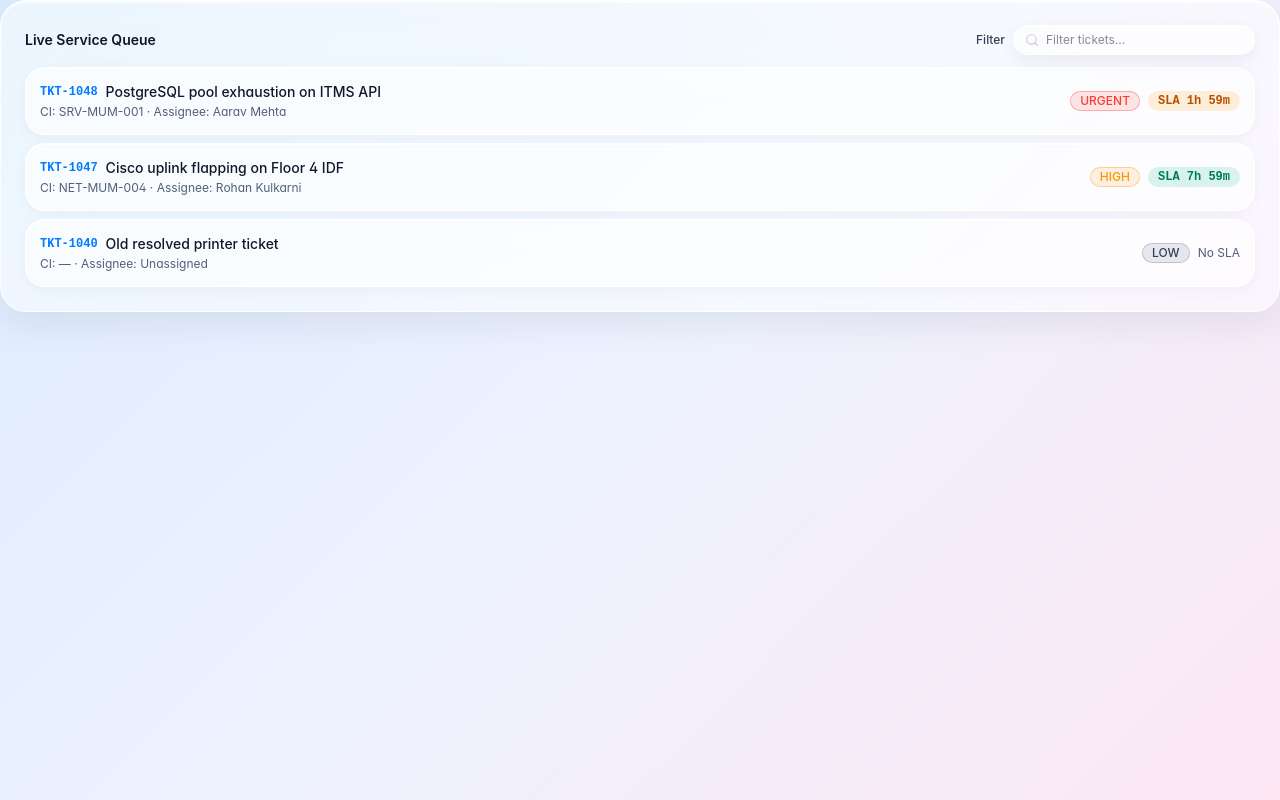
Test case: ServiceQueue FE-06 status outcome scoping (#150) › status confirm does not bleed onto another ticket mid-flight
The width and height of the screenshot is (1280, 800).
Click the text "TKT-1048" at (69, 92), box x1=40 y1=84 x2=98 y2=100
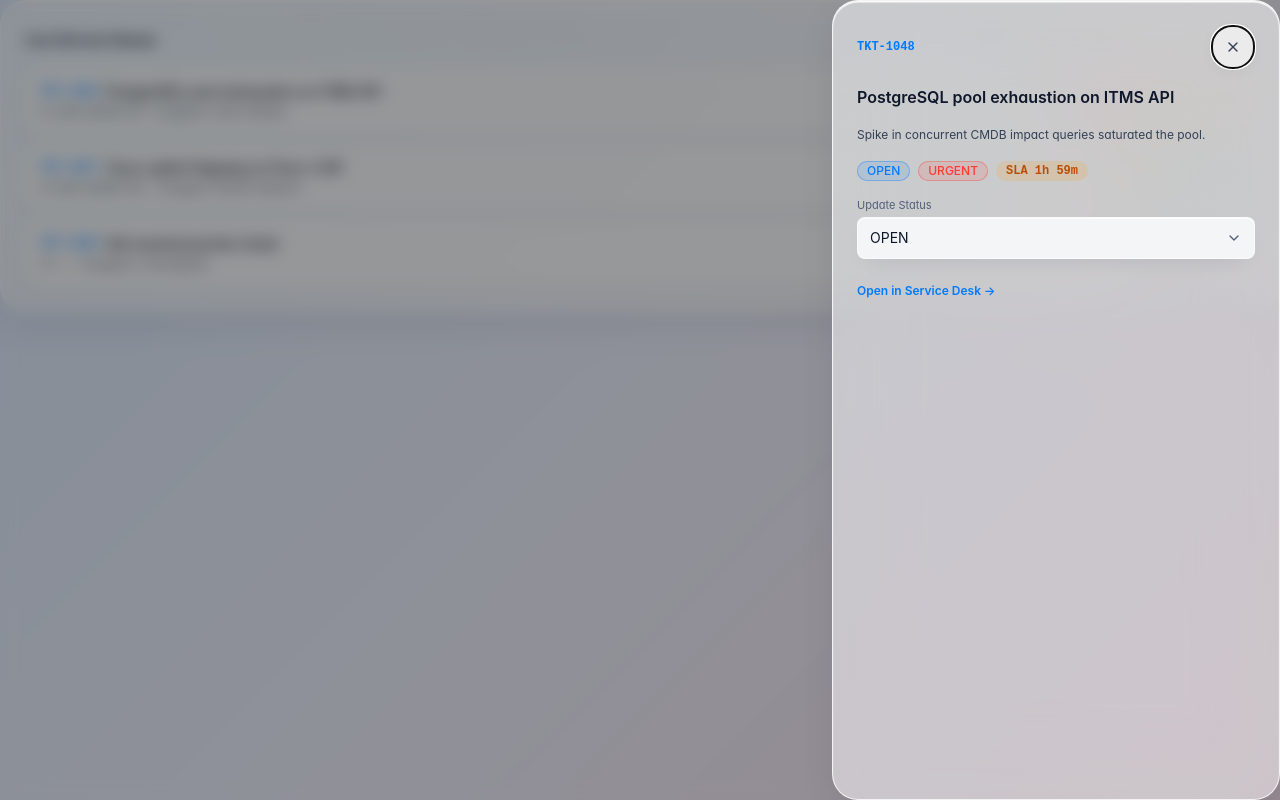
Click the button with aria-label "Update Status" at (889, 238), box x1=857 y1=217 x2=1255 y2=259
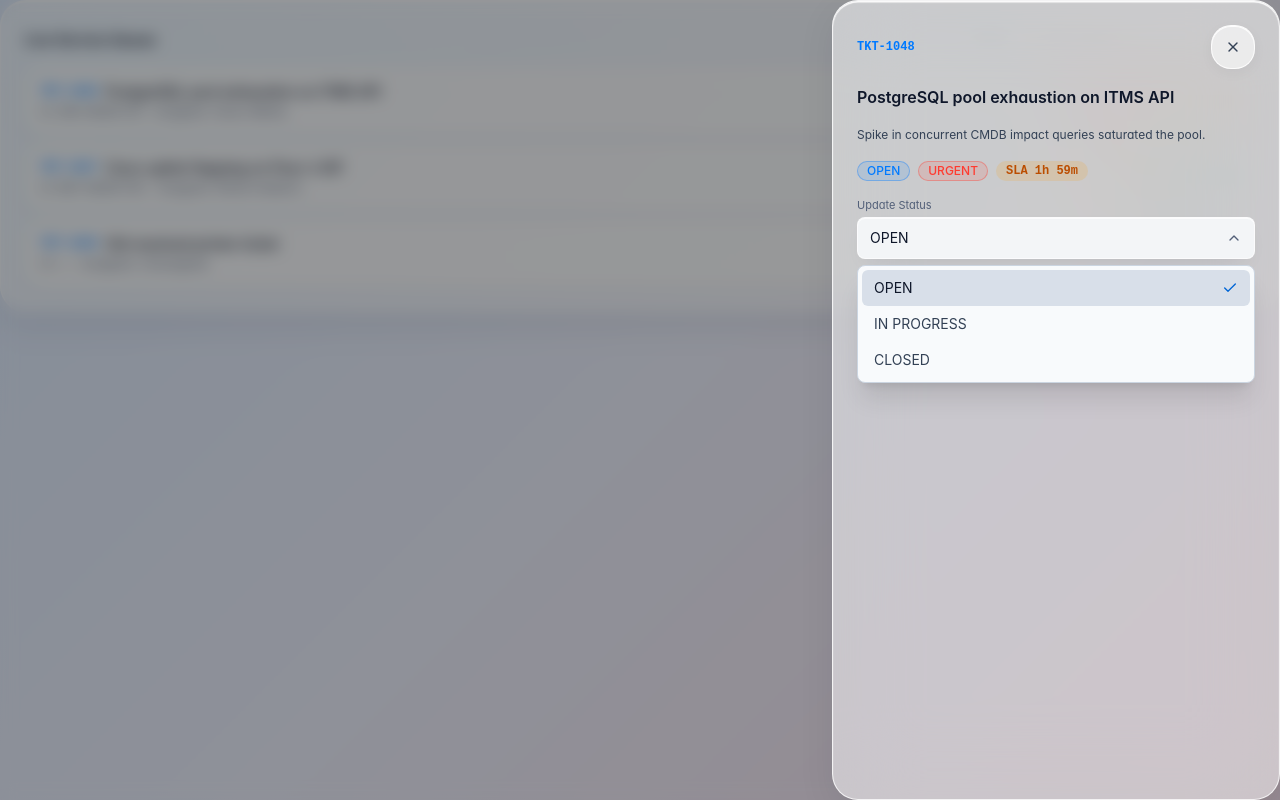
Click the option "IN PROGRESS" at (920, 324), box x1=862 y1=306 x2=1250 y2=342
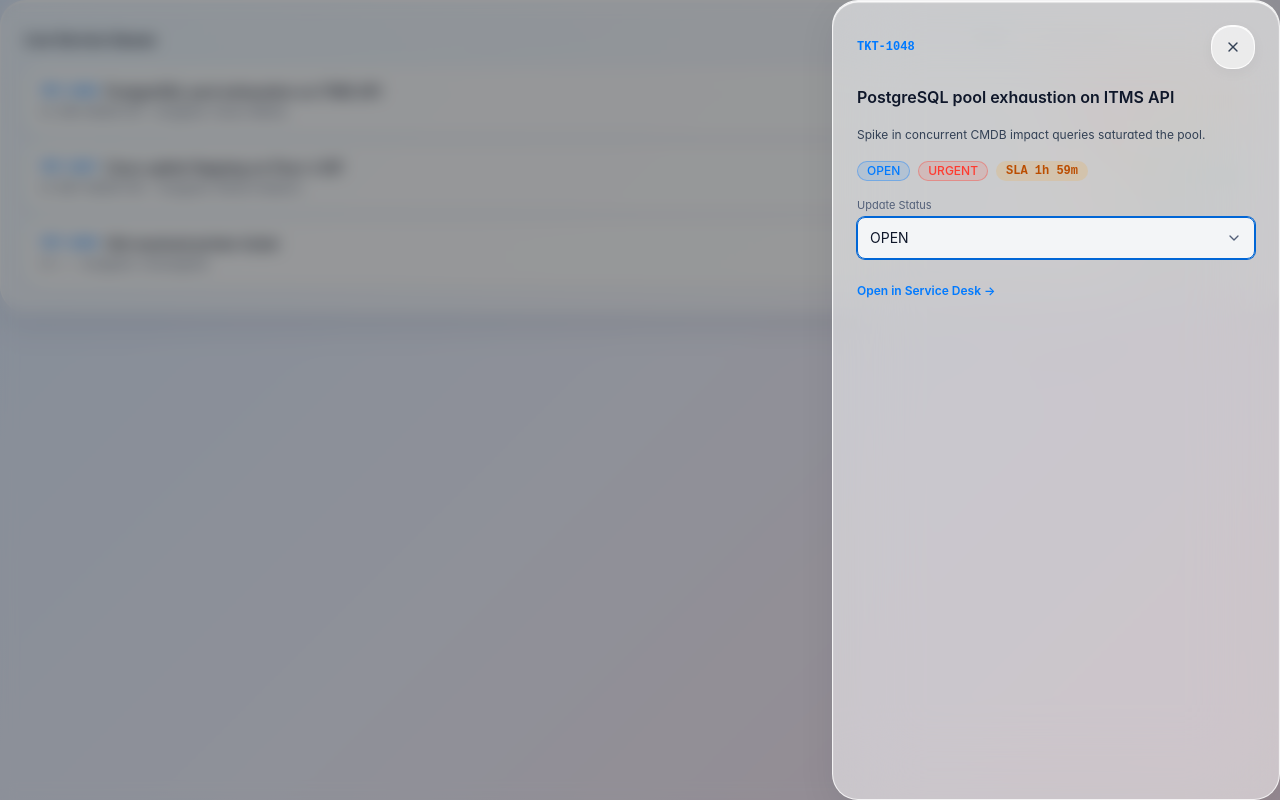
# Switch to T2 mid-flight.
Press Escape
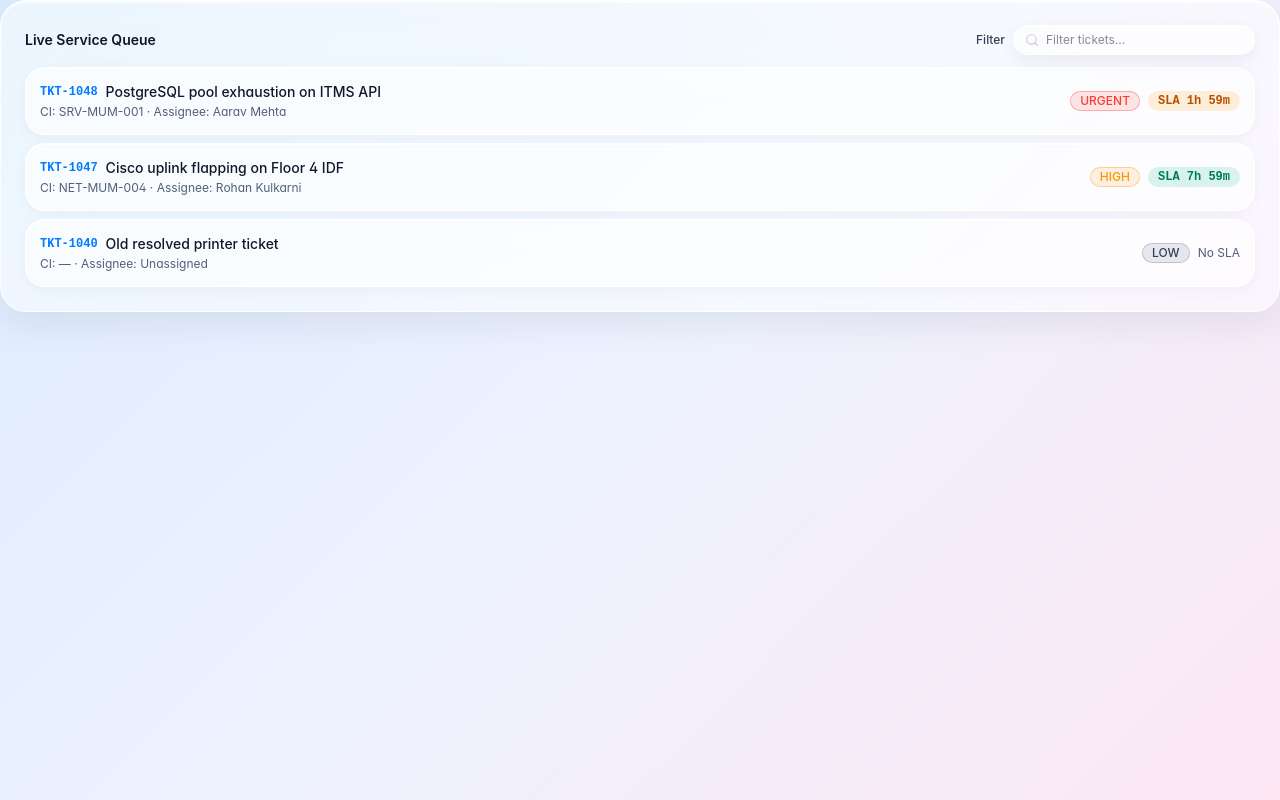
Expected: the dialog with test id "service-queue-drawer" is gone
Click the text "TKT-1047" at (69, 168), box x1=40 y1=160 x2=98 y2=176
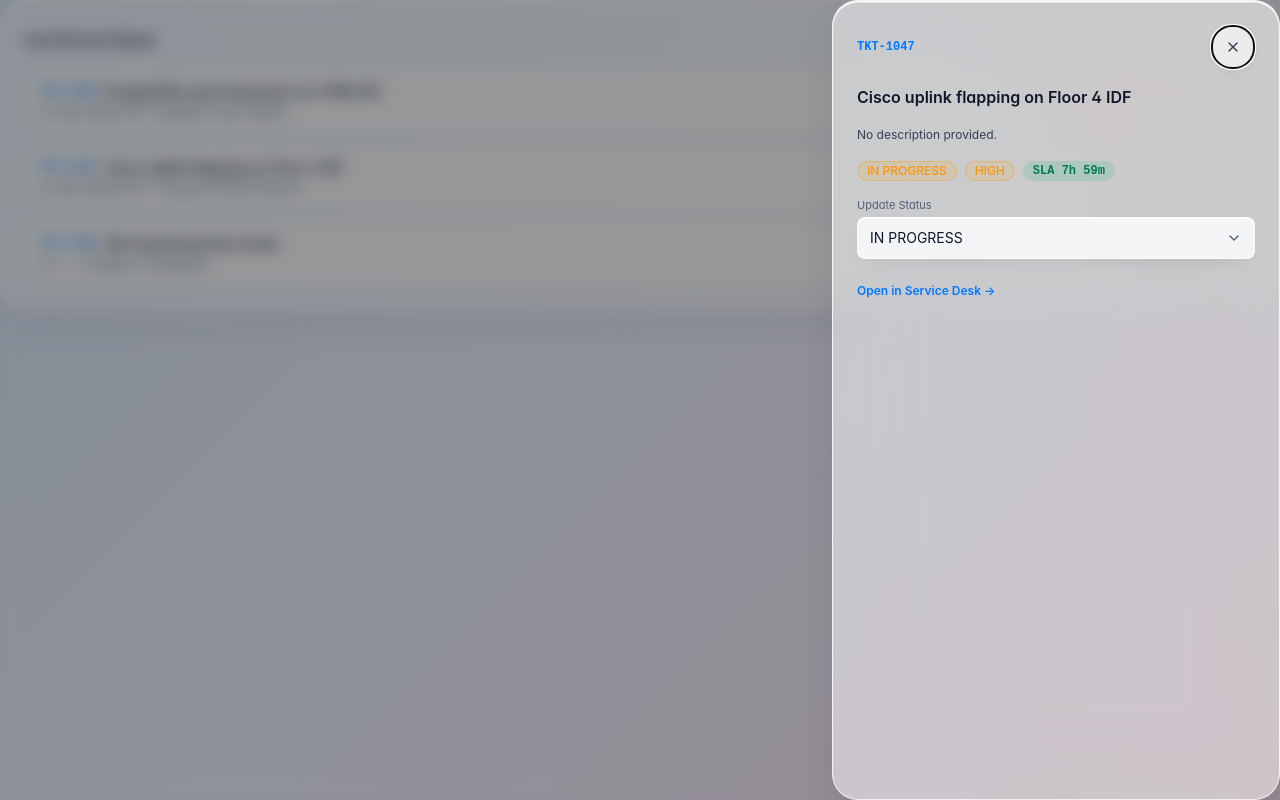
Expected: the text "TKT-1047" is shown, x1=857 y1=39 x2=915 y2=55
